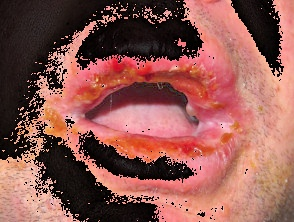SJS-TEN: (28, 84, 254, 179), (69, 46, 224, 111)
